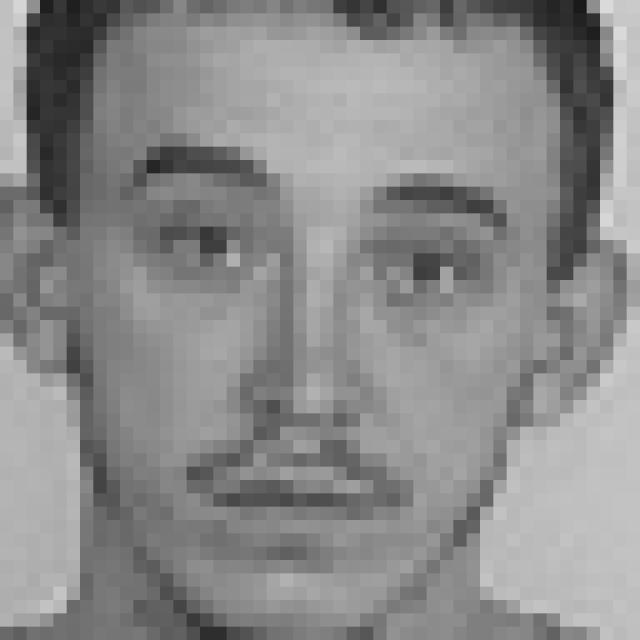neutral: (118, 138, 528, 571)
